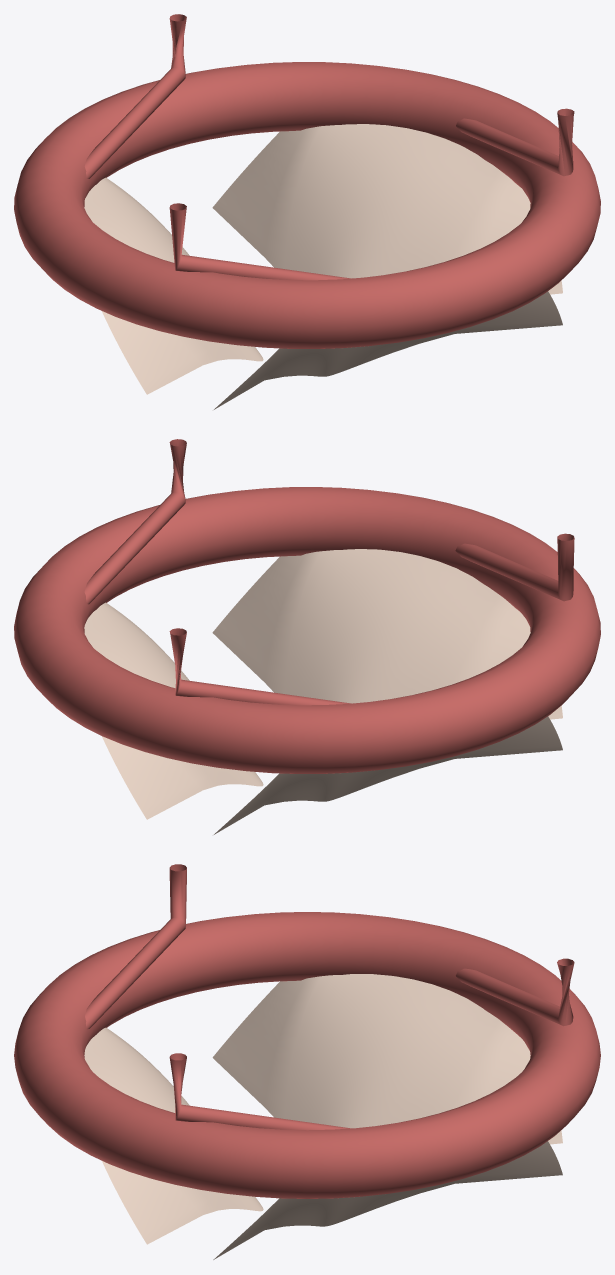
The model's file is aortic.glb.
3 renders of one model, top to bottom at view 1: azimuth 30°, elevation 25°; view 2: azimuth 150°, elevation 25°; view 3: azimuth 270°, elevation 25°, orthographic.
Visible parts, largest first — view 1: AnnulusAortic, LeafletAortic3, LeafletAortic2, LeafletAortic1, CommissureAortic2, CommissureAortic3, CommissureAortic1; view 2: AnnulusAortic, LeafletAortic1, LeafletAortic3, LeafletAortic2, CommissureAortic3, CommissureAortic1, CommissureAortic2; view 3: AnnulusAortic, LeafletAortic2, LeafletAortic1, LeafletAortic3, CommissureAortic1, CommissureAortic2, CommissureAortic3.
Part boxes in pixels (<box>): AnnulusAortic: <box>14,62,600,348</box>; LeafletAortic3: <box>212,124,562,294</box>; LeafletAortic2: <box>84,177,263,394</box>; LeafletAortic1: <box>214,291,562,409</box>; CommissureAortic2: <box>84,14,186,178</box>; CommissureAortic3: <box>456,108,574,176</box>; CommissureAortic1: <box>169,203,351,280</box>; AnnulusAortic: <box>14,487,600,773</box>; LeafletAortic1: <box>212,549,562,719</box>; LeafletAortic3: <box>84,602,263,819</box>; LeafletAortic2: <box>214,716,562,834</box>; CommissureAortic3: <box>84,439,186,604</box>; CommissureAortic1: <box>455,533,574,601</box>; CommissureAortic2: <box>169,628,351,705</box>; AnnulusAortic: <box>14,912,600,1198</box>; LeafletAortic2: <box>212,974,562,1144</box>; LeafletAortic1: <box>84,1027,263,1244</box>; LeafletAortic3: <box>213,1141,562,1259</box>; CommissureAortic1: <box>85,864,186,1029</box>; CommissureAortic2: <box>456,958,574,1026</box>; CommissureAortic3: <box>169,1053,350,1130</box>.
Size of the model in its own units: 2 by 0.93 by 2.
